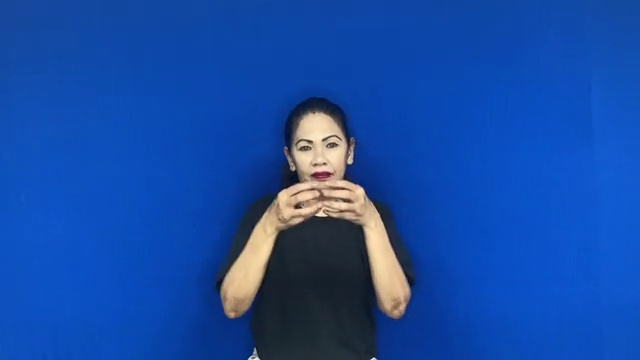egg: (263, 173, 375, 233)
